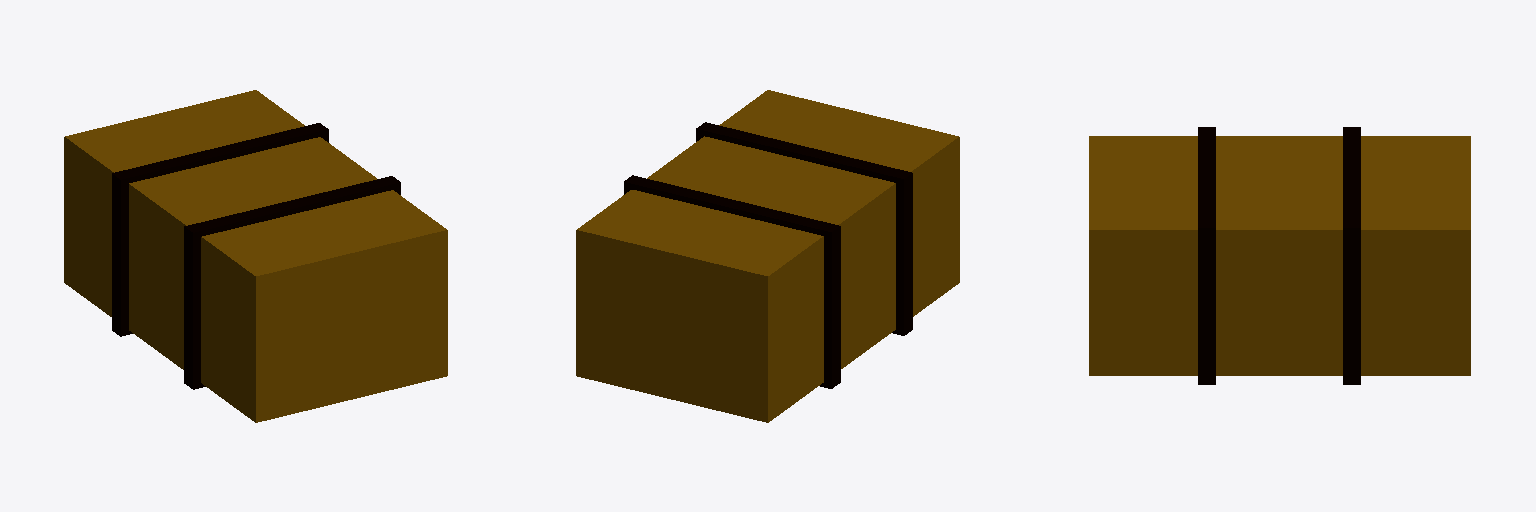
File: HayBale.obj
The picture shows the model from 3 angles: view 1: azimuth 30°, elevation 25°; view 2: azimuth 150°, elevation 25°; view 3: azimuth 270°, elevation 25°; orthographic projection.
Visible parts, largest first — view 1: HayBale pCube1, HayBale pCube2, pasted__pCube2 HayBale; view 2: HayBale pCube1, pasted__pCube2 HayBale, HayBale pCube2; view 3: HayBale pCube1, pasted__pCube2 HayBale, HayBale pCube2.
Boxes of the visible parts, x1,y1,x2,y2 form: HayBale pCube1: [64, 90, 447, 422]; HayBale pCube2: [112, 123, 328, 336]; pasted__pCube2 HayBale: [184, 176, 400, 389]; HayBale pCube1: [576, 90, 959, 422]; pasted__pCube2 HayBale: [696, 122, 912, 335]; HayBale pCube2: [624, 175, 840, 388]; HayBale pCube1: [1089, 136, 1470, 375]; pasted__pCube2 HayBale: [1198, 127, 1215, 384]; HayBale pCube2: [1343, 127, 1360, 384].
Size of the model in its own units: 1.35 by 0.9724 by 2.15.